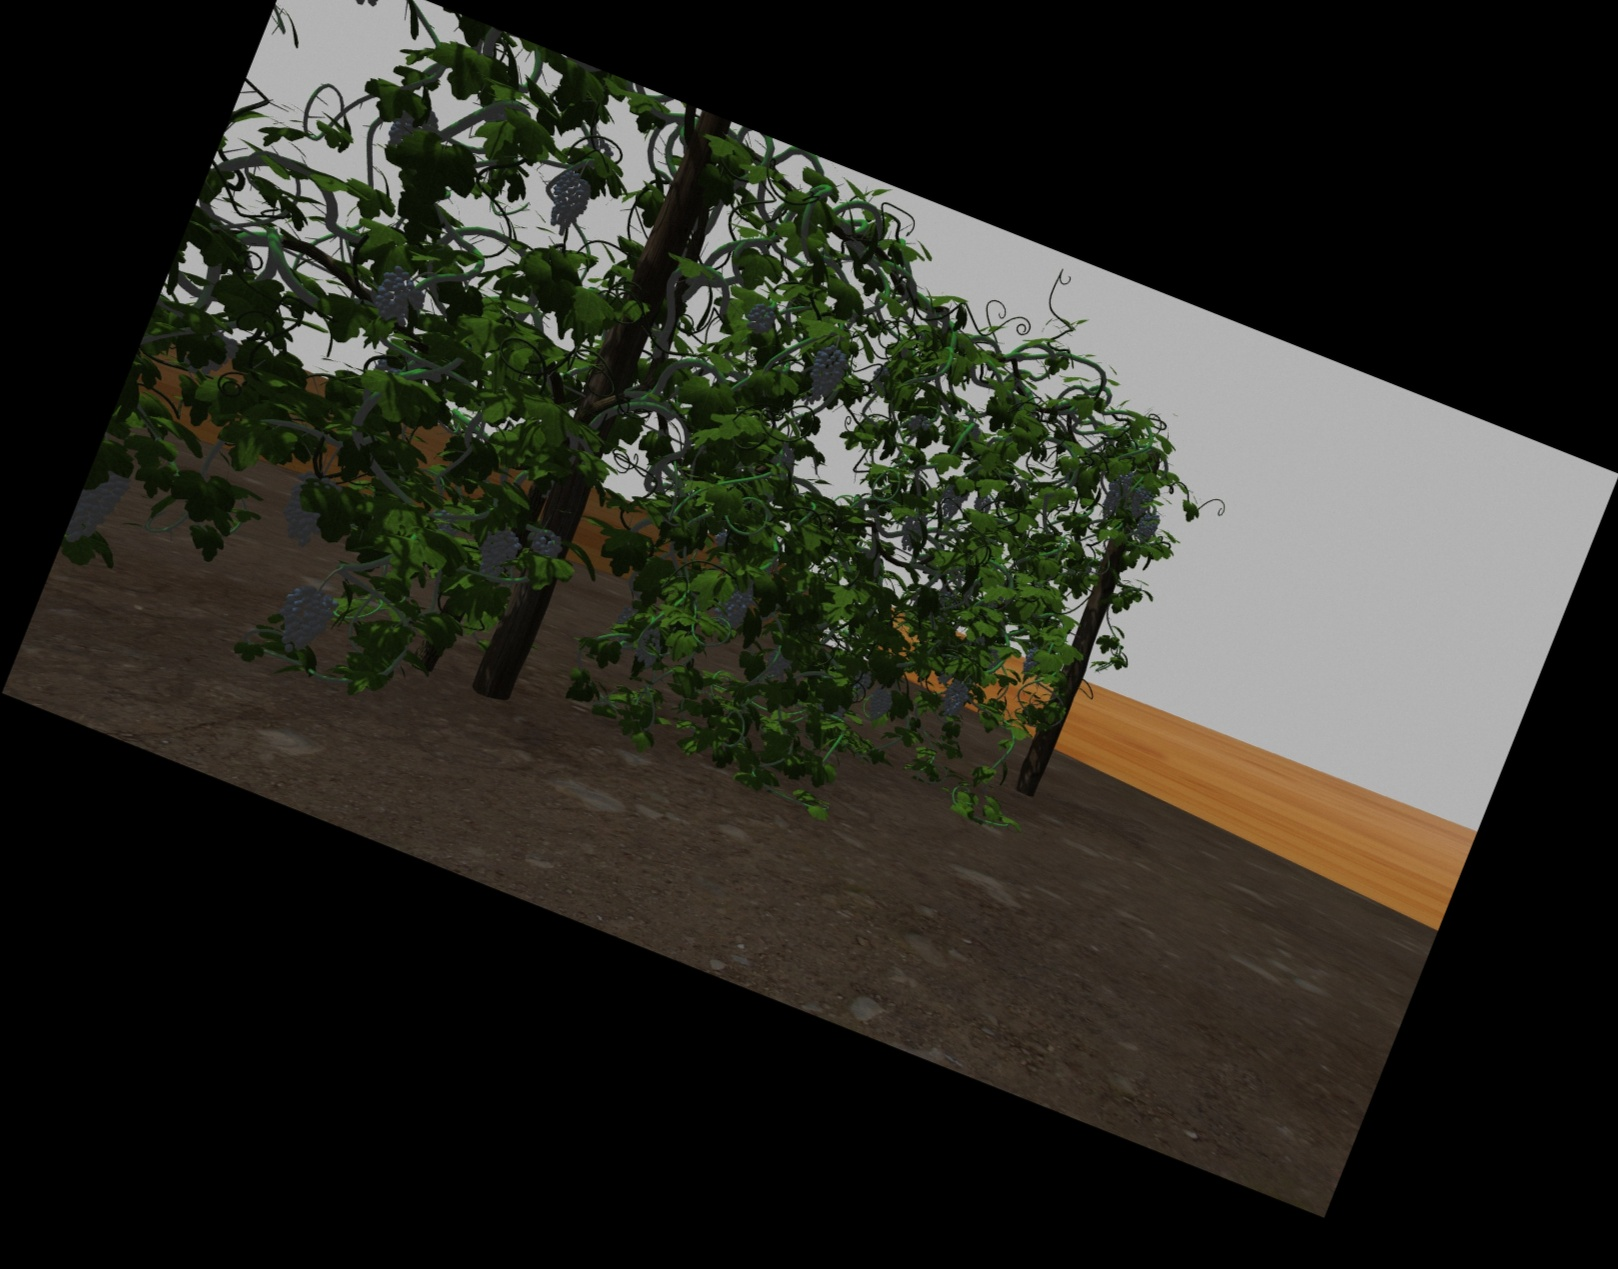grape: (80, 466, 120, 550), (280, 589, 330, 653), (285, 476, 331, 544), (377, 269, 426, 323), (548, 172, 586, 234), (809, 347, 844, 406), (479, 529, 515, 579), (717, 591, 749, 627), (942, 682, 967, 719), (942, 481, 967, 518), (901, 514, 925, 550), (527, 529, 561, 554), (867, 687, 890, 723), (637, 629, 661, 665), (747, 303, 772, 332), (766, 650, 791, 677), (1131, 487, 1150, 518), (1102, 491, 1120, 519), (1139, 512, 1157, 539), (854, 671, 869, 699), (907, 412, 929, 432), (1023, 648, 1038, 674), (972, 495, 992, 511)
